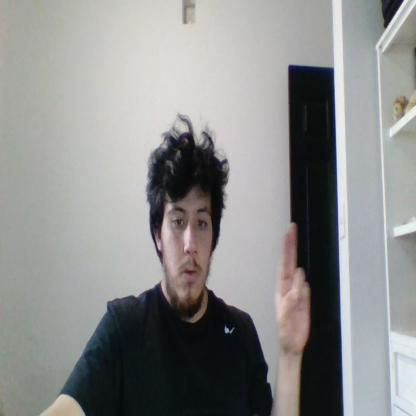U: (275, 223, 310, 350)
